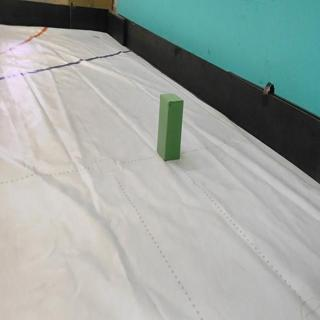greenbox: (155, 92, 184, 162)
